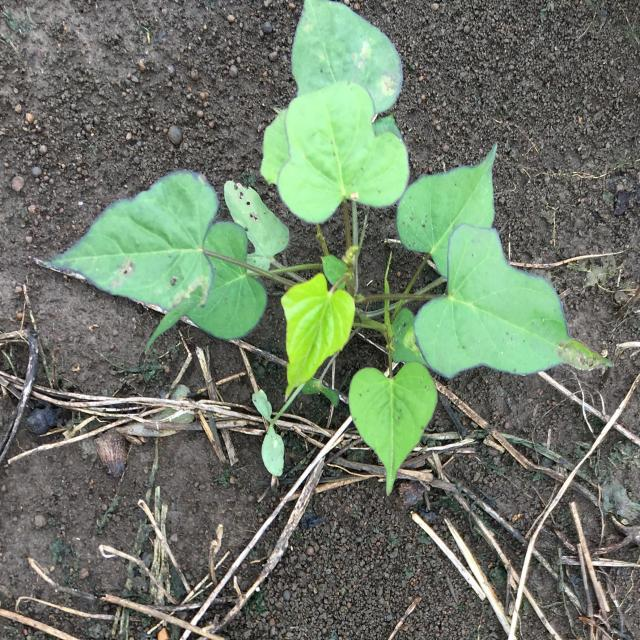MorningGlory: (40, 1, 614, 496)
